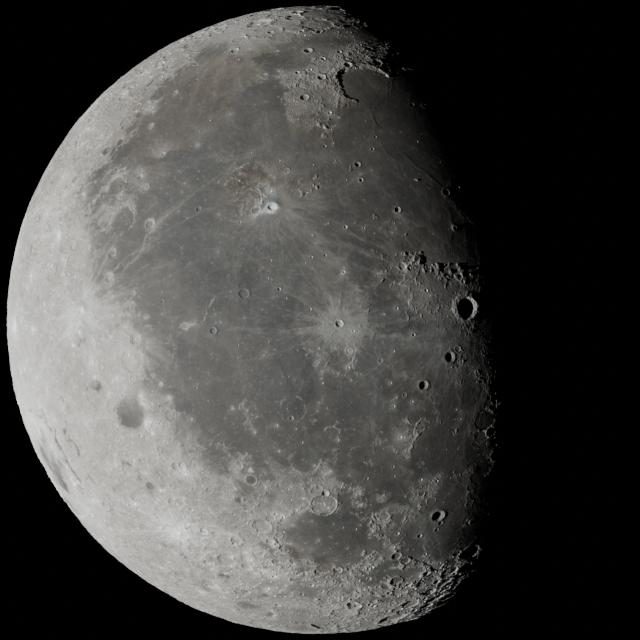crater: (283, 394, 307, 422), (310, 493, 338, 516), (456, 295, 478, 320), (370, 509, 392, 529), (227, 458, 247, 479), (323, 425, 341, 442), (413, 418, 429, 435), (431, 508, 448, 524), (251, 519, 265, 532), (444, 350, 457, 364), (417, 379, 430, 392), (266, 537, 280, 549), (173, 461, 187, 473), (130, 332, 142, 346), (144, 218, 156, 232), (348, 601, 362, 613), (229, 535, 242, 547), (425, 496, 438, 508), (245, 474, 257, 486), (238, 287, 250, 299), (399, 556, 411, 568), (104, 272, 115, 284), (351, 160, 363, 171), (108, 248, 118, 260), (344, 346, 355, 356), (398, 261, 409, 271), (394, 576, 405, 586), (441, 187, 451, 197), (140, 182, 150, 192), (250, 205, 260, 215), (264, 610, 275, 619), (294, 188, 303, 198), (170, 461, 179, 471), (334, 566, 344, 575), (215, 554, 224, 564), (334, 319, 344, 328), (209, 326, 218, 335), (317, 73, 327, 81), (200, 528, 210, 536), (160, 149, 168, 158), (288, 414, 296, 422), (147, 122, 155, 130), (137, 172, 145, 180), (300, 94, 308, 101), (372, 213, 379, 220)
rock: (335, 64, 366, 102), (456, 260, 484, 286), (458, 542, 480, 564), (474, 410, 494, 431), (449, 208, 468, 229), (413, 250, 426, 268), (422, 560, 436, 574), (452, 270, 463, 282), (112, 138, 124, 149), (373, 58, 384, 68), (391, 551, 401, 561), (408, 554, 418, 563), (101, 146, 110, 156), (388, 578, 397, 586), (346, 601, 353, 610), (451, 224, 458, 232)
